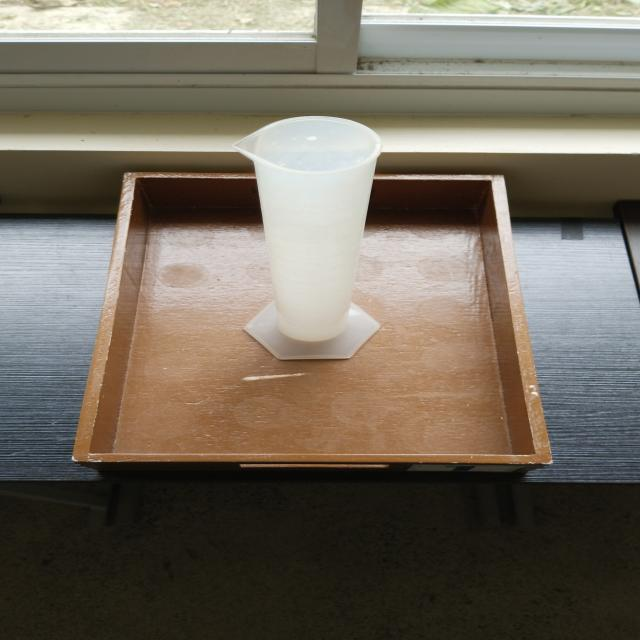graduated_cylinder: (217, 112, 405, 363)
